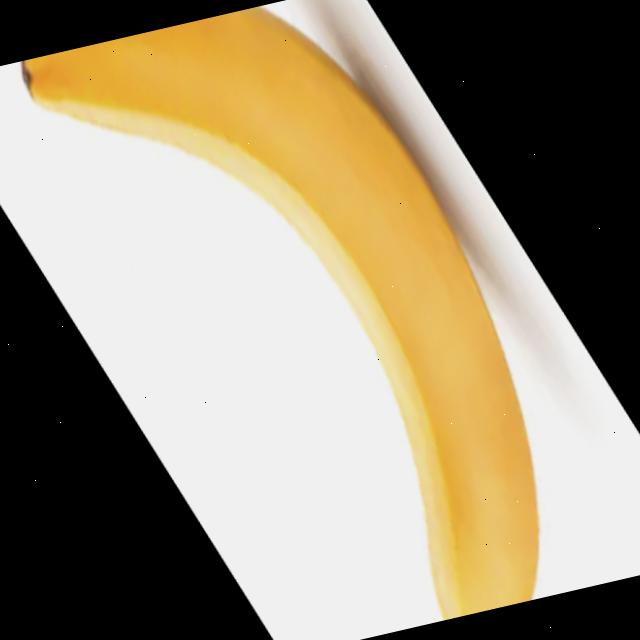banana: (17, 0, 565, 640)
